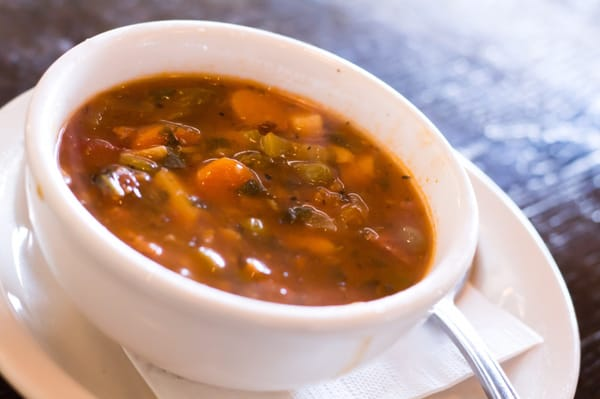sushi: (24, 18, 492, 389)
